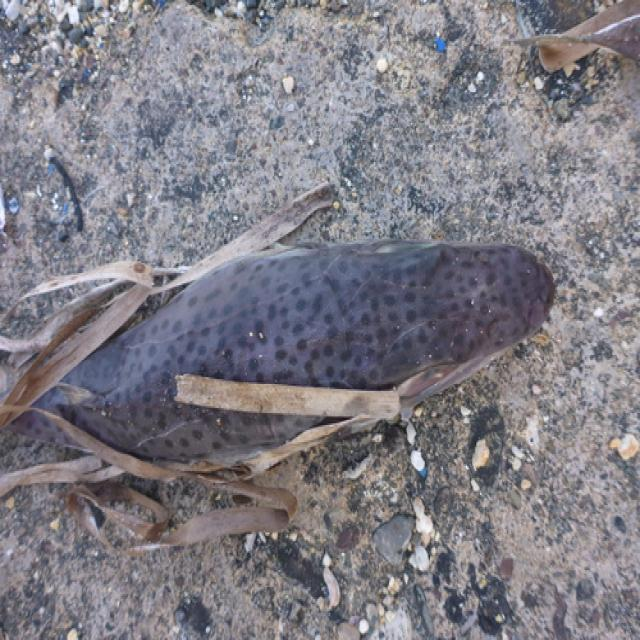Balik: (35, 241, 554, 464)
